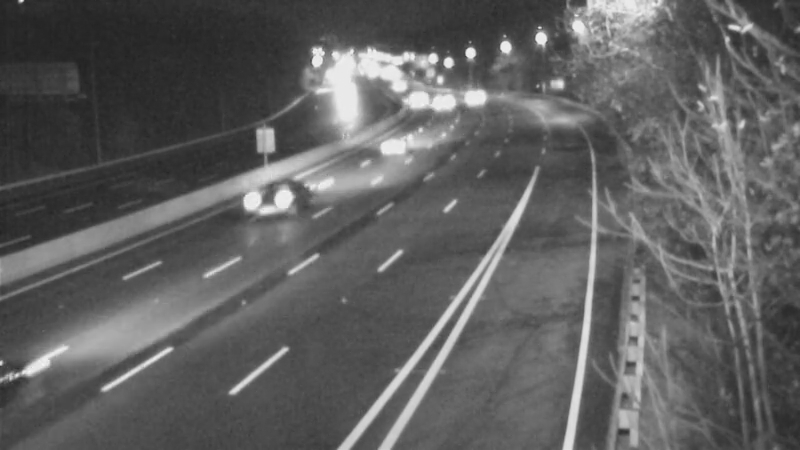vehicle: (234, 163, 314, 243), (444, 75, 494, 125), (387, 75, 437, 125), (415, 78, 465, 128), (371, 119, 421, 169), (324, 78, 374, 128)
